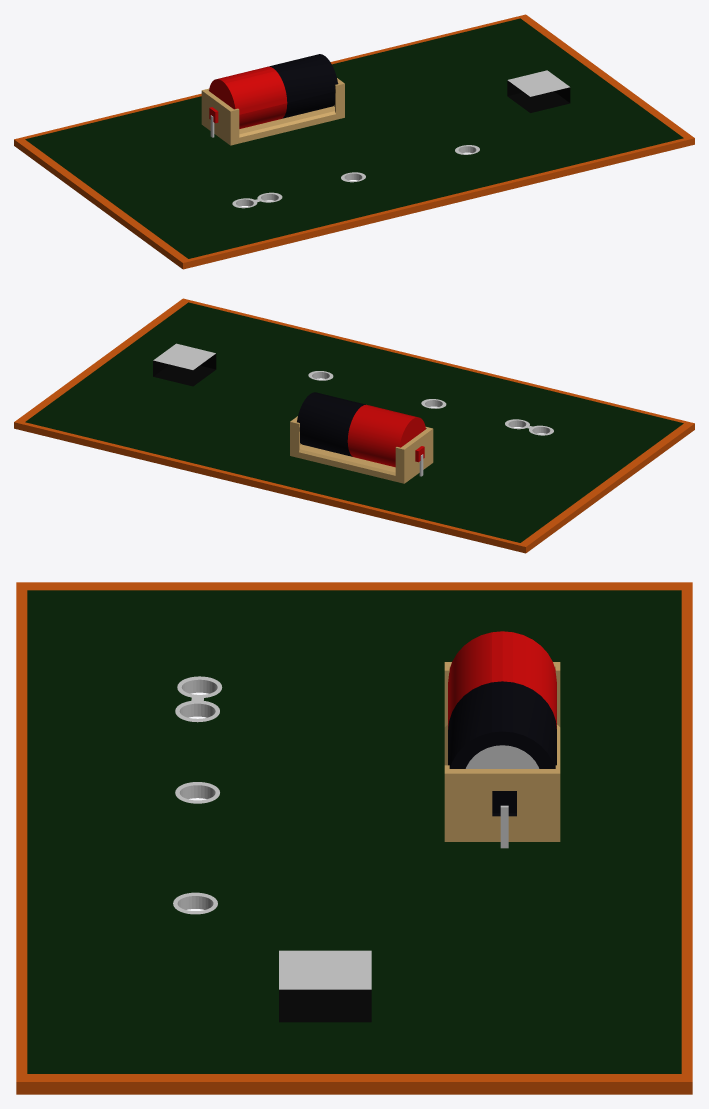
File: 3D_Base (& battery & switch base).fbx
3 views of the same model, one above another, from view 1: azimuth 30°, elevation 25°; view 2: azimuth 150°, elevation 25°; view 3: azimuth 270°, elevation 25° (orthographic). The views are drawn at different scales.
Visible parts, largest first — view 1: to_unity_Base____battery___switch_base_; view 2: to_unity_Base____battery___switch_base_; view 3: to_unity_Base____battery___switch_base_.
Boxes of the visible parts, box(x1,y1,x2,y2) form: to_unity_Base____battery___switch_base_: box(14, 14, 694, 269); to_unity_Base____battery___switch_base_: box(14, 298, 694, 553); to_unity_Base____battery___switch_base_: box(16, 582, 692, 1094).
Bounding box in the file's own units: 63.78 × 7.19 × 36.48.
